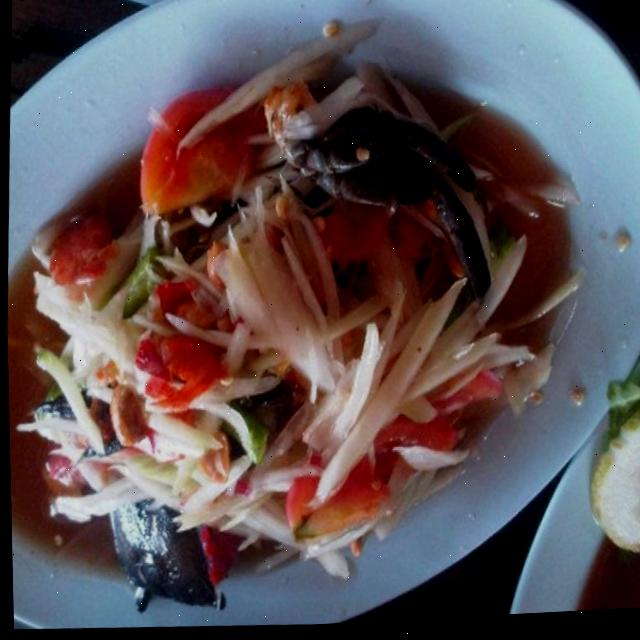蔬菜料理: (0, 0, 627, 636)
